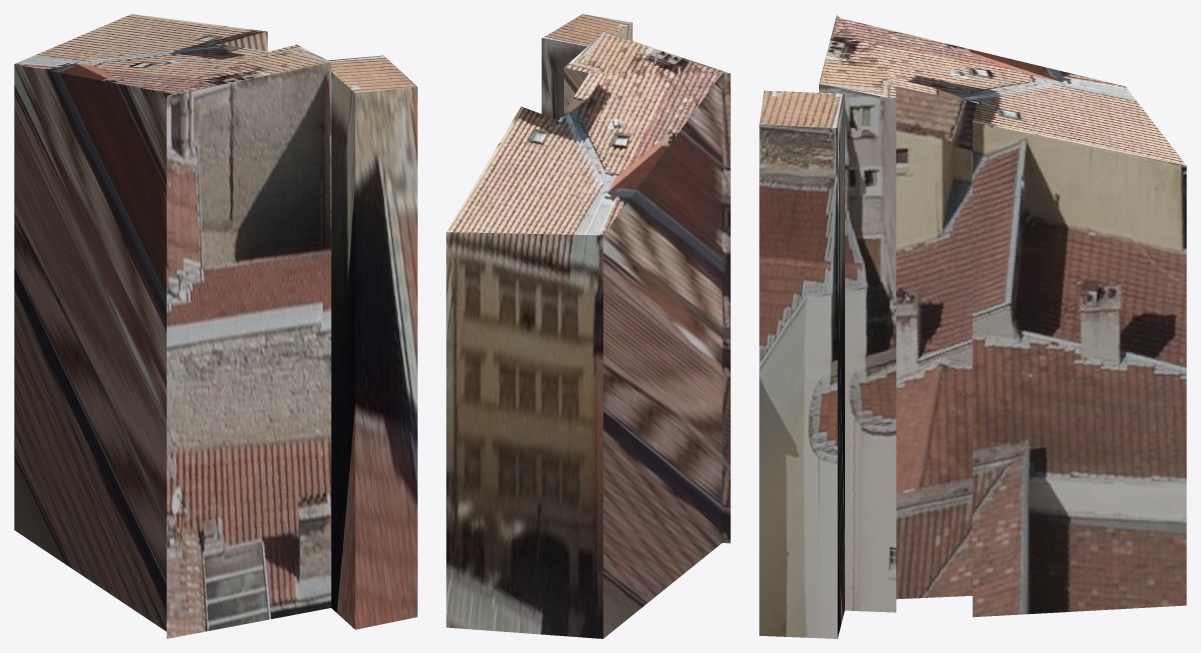
3 renders of one model, left to right at view 1: azimuth 30°, elevation 25°; view 2: azimuth 150°, elevation 25°; view 3: azimuth 270°, elevation 25°, orthographic. The views are drawn at different scales.
Visible parts, largest first — view 1: Z_UP; view 2: Z_UP; view 3: Z_UP.
Boxes of the visible parts, left/top/right/bottom form: Z_UP: left=14, top=14, right=417, bottom=638; Z_UP: left=446, top=14, right=730, bottom=638; Z_UP: left=759, top=14, right=1186, bottom=638.
Size of the model in its own units: 9.05 by 21.41 by 15.78.
2 materials, 1 textured.
